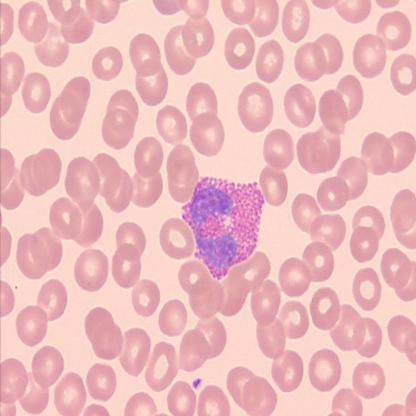Eosinophil: (180, 176, 266, 279)
